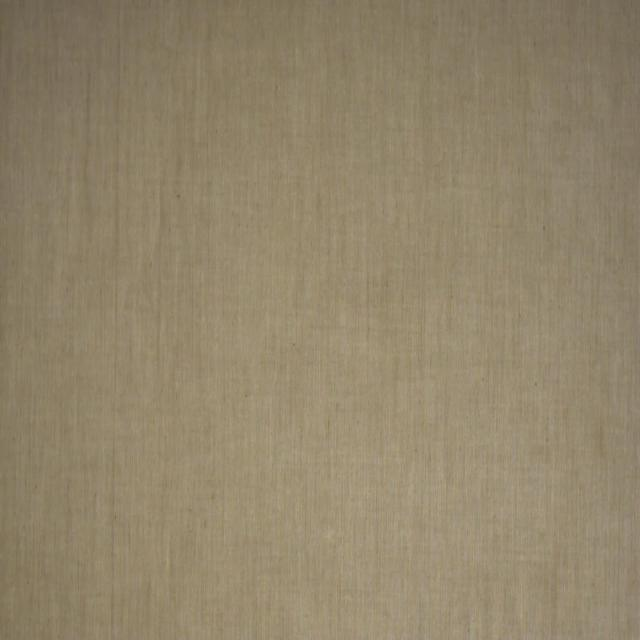dirty: (594, 414, 604, 463)
